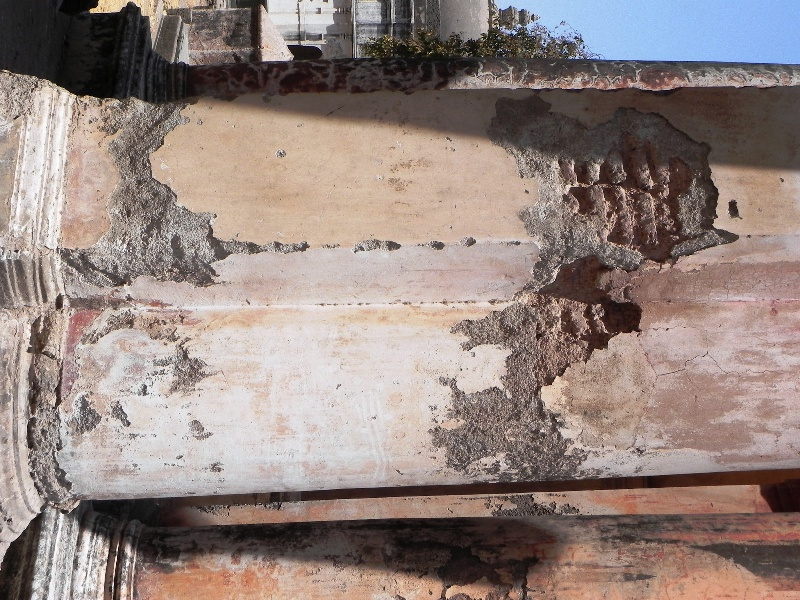Exposed Bricks: (436, 254, 663, 480), (60, 93, 292, 290), (563, 155, 692, 237), (23, 338, 69, 505), (60, 391, 134, 434)
